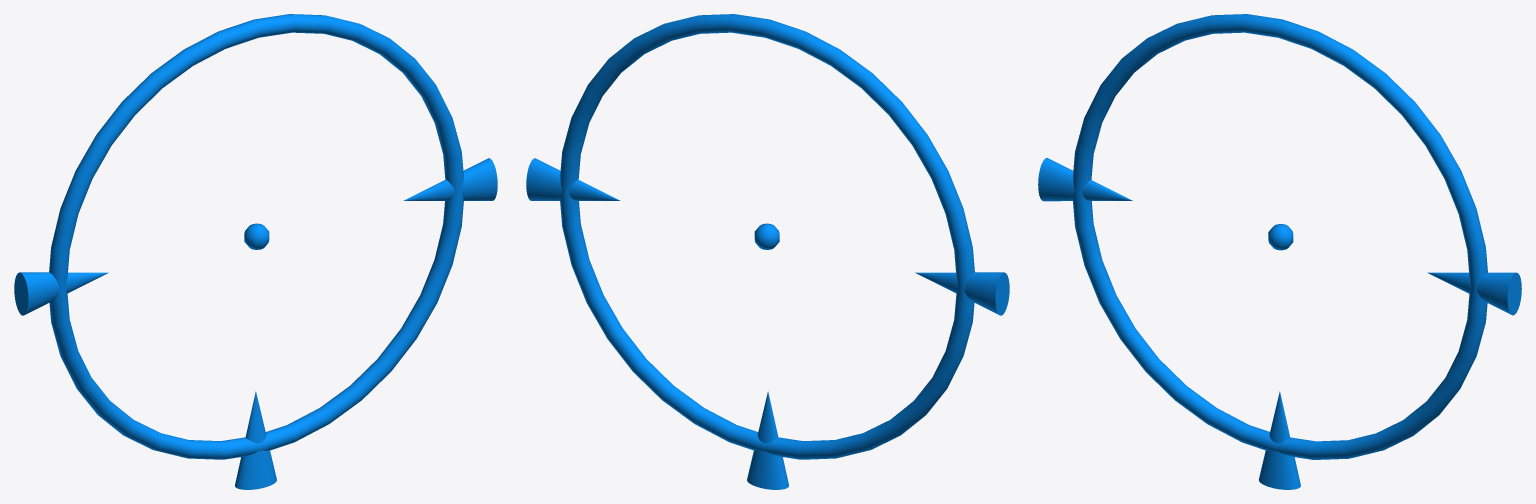
File: ch_pointBlue.DAE
3 renders of one model, left to right at view 1: azimuth 30°, elevation 25°; view 2: azimuth 150°, elevation 25°; view 3: azimuth 330°, elevation 25°, orthographic.
Visible parts, largest first — view 1: Torus009, Kegel007, Kegel006, Kegel005, Kugel001; view 2: Torus009, Kegel007, Kegel006, Kegel005, Kugel001; view 3: Torus009, Kegel005, Kegel007, Kegel006, Kugel001.
Boxes of the visible parts, left/top/right/bottom form: Torus009: left=49, top=14, right=463, bottom=459; Kegel007: left=14, top=272, right=108, bottom=315; Kegel006: left=235, top=391, right=276, bottom=489; Kegel005: left=403, top=158, right=497, bottom=200; Kugel001: left=244, top=223, right=269, bottom=249; Torus009: left=560, top=14, right=974, bottom=459; Kegel007: left=915, top=272, right=1009, bottom=315; Kegel006: left=747, top=391, right=788, bottom=489; Kegel005: left=526, top=158, right=620, bottom=200; Kugel001: left=754, top=223, right=779, bottom=249; Torus009: left=1073, top=14, right=1487, bottom=459; Kegel005: left=1427, top=272, right=1521, bottom=315; Kegel007: left=1038, top=158, right=1132, bottom=201; Kegel006: left=1259, top=391, right=1300, bottom=489; Kugel001: left=1268, top=224, right=1293, bottom=250.
Size of the model in its own units: 0.3064 by 0.0161 by 0.2888.
Materials: 1 (1 with a texture image).
